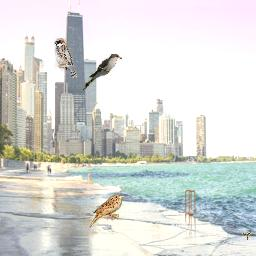Cuckoo: (82, 54, 122, 90)
Sparrow: (89, 195, 125, 228), (54, 38, 77, 78), (242, 230, 252, 240)
